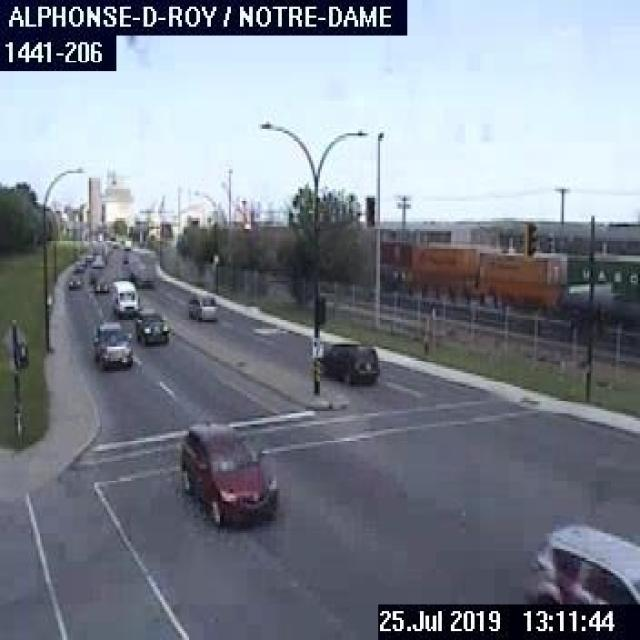vehicle: (175, 420, 278, 531), (522, 522, 638, 604), (318, 338, 378, 384), (90, 318, 132, 371), (133, 306, 171, 346), (127, 245, 158, 289), (110, 277, 138, 316), (184, 291, 216, 320), (93, 276, 109, 293), (67, 273, 82, 291)
